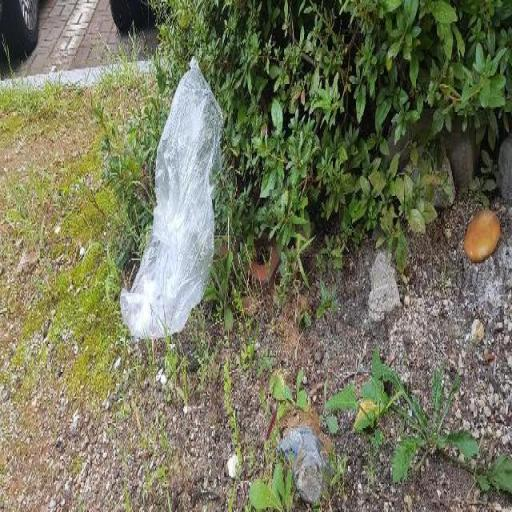plastic-bag: (119, 60, 224, 342)
